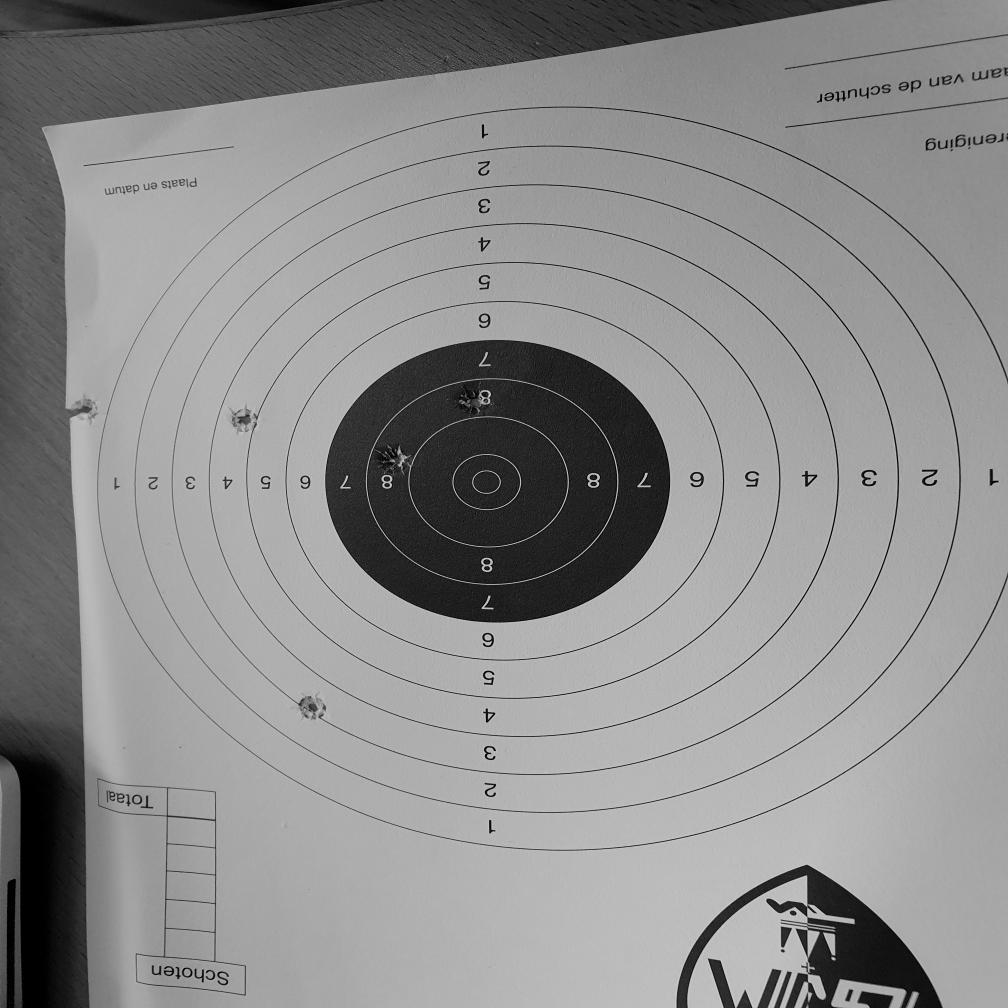0: (69, 394, 110, 426)
3: (287, 694, 336, 722)
5: (222, 402, 266, 438)
8: (449, 384, 496, 425)
9: (372, 438, 418, 478)
Target: (106, 108, 1008, 851)
black_contour: (325, 340, 668, 624)
